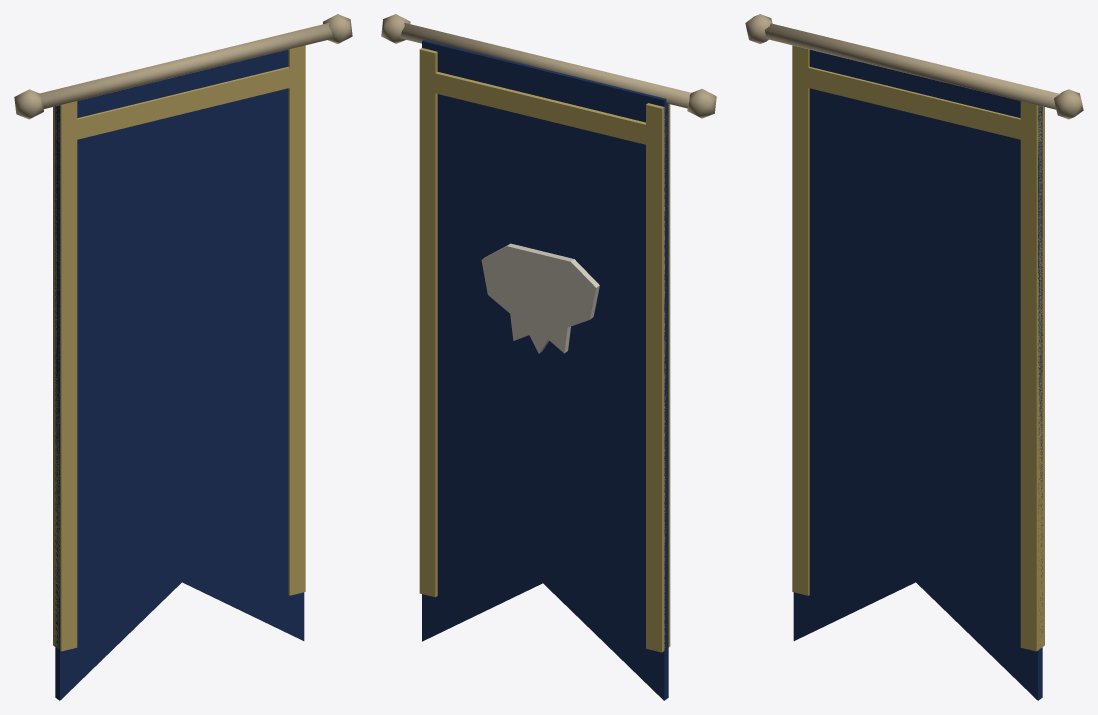
The model's file is zombie_banner_v0.glb.
3 views of the same model, side by side, from view 1: azimuth 30°, elevation 25°; view 2: azimuth 150°, elevation 25°; view 3: azimuth 330°, elevation 25° (orthographic).
Parts seen in each view (by area): view 1: zombie_banner_v0; view 2: zombie_banner_v0; view 3: zombie_banner_v0.
Boxes of the visible parts, left/top/right/bottom form: zombie_banner_v0: left=14, top=14, right=352, bottom=700; zombie_banner_v0: left=381, top=14, right=716, bottom=700; zombie_banner_v0: left=745, top=14, right=1083, bottom=700.
Bounding box in the file's own units: 1.04 × 1.84 × 0.0933.
